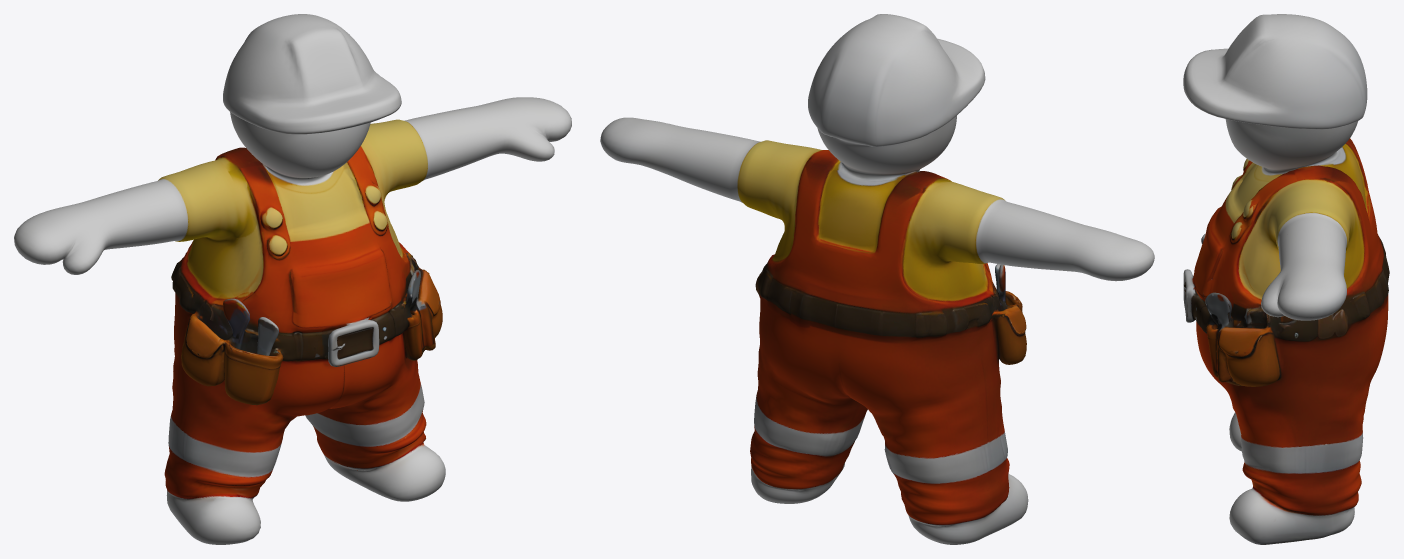
The model's file is Character_fat.fbx.
3 renders of one model, left to right at view 1: azimuth 30°, elevation 25°; view 2: azimuth 150°, elevation 25°; view 3: azimuth 270°, elevation 25°, orthographic. The views are drawn at different scales.
Visible parts, largest first — view 1: tripo_node_8207cf9e; view 2: tripo_node_8207cf9e; view 3: tripo_node_8207cf9e.
Part boxes in pixels (<box>): tripo_node_8207cf9e: <box>14,14,571,544</box>; tripo_node_8207cf9e: <box>600,14,1154,544</box>; tripo_node_8207cf9e: <box>1183,14,1389,544</box>.
Bounding box in the file's own units: 99.93 × 33.7 × 84.25.
Materials: 1 (1 with a texture image).
